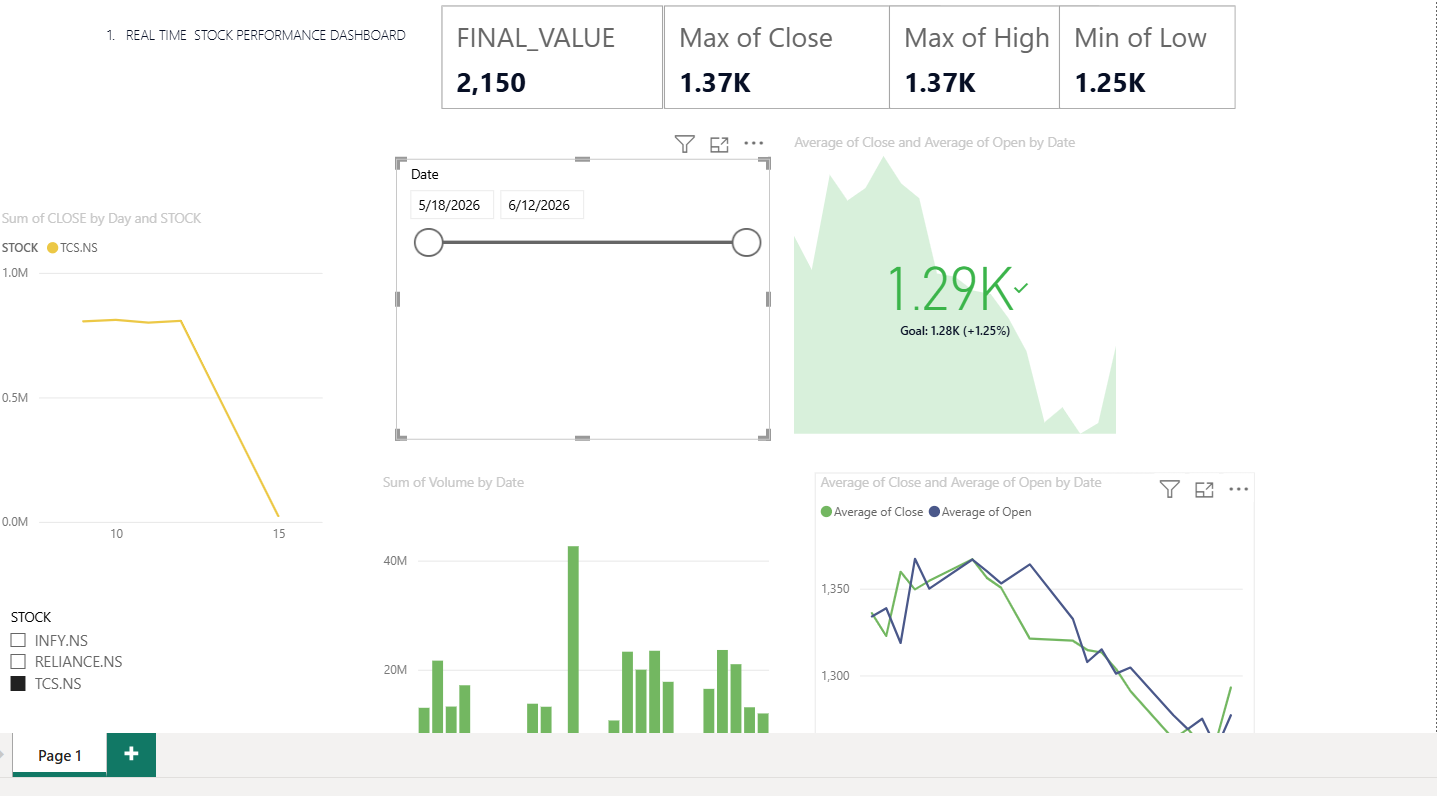

This screenshot's page, from the dashboard's own definition file:
{"tool":"powerbi","page":{"name":"Page 1","canvas":[1280,720],"ordinal":0},"visuals":[{"type":"lineChart","fields":{"Category":["Stock Data.DATE.Variation.Date Hierarchy.Year","Stock Data.DATE.Variation.Date Hierarchy.Quarter","Stock Data.DATE.Variation.Date Hierarchy.Month","Stock Data.DATE.Variation.Date Hierarchy.Day"],"Y":["Sum(Stock Data.CLOSE)"],"Series":["Stock Data.STOCK"]},"box":[0,185.2,295,306],"z":0},{"type":"slicer","fields":{"Values":["Stock Data.STOCK"]},"box":[0,535.2,234.6,185.2],"z":1000},{"type":"cardVisual","fields":{"Data":["Stock Data.FINAL_VALUE"]},"box":[391.1,0,207.2,102.9],"z":2000},{"type":"lineChart","fields":{"Y":["Avg(pub?output=csv.Close)","Avg(pub?output=csv.Open)"],"Category":["pub?output=csv.Date"]},"box":[727.3,419.9,391.1,300.5],"z":3000},{"type":"cardVisual","fields":{"Data":["Max(pub?output=csv.Close)"]},"box":[588.7,0,256.6,102.9],"z":4000},{"type":"columnChart","fields":{"Category":["pub?output=csv.Date"],"Y":["Sum(pub?output=csv.Volume)"]},"box":[338.9,419.9,365,300.5],"z":5000},{"type":"slicer","fields":{"Values":["pub?output=csv.Date"]},"box":[355.4,141.3,332.1,249.7],"z":6000},{"type":"cardVisual","fields":{"Data":["Max(pub?output=csv.High)"]},"box":[789,0,197.6,102.9],"z":7000},{"type":"cardVisual","fields":{"Data":["Min(pub?output=csv.Low)"]},"box":[940,0,167.4,102.9],"z":8000},{"type":"kpi","fields":{"Indicator":["Avg(pub?output=csv.Close)"],"TrendLine":["pub?output=csv.Date"],"Goal":["Avg(pub?output=csv.Open)"]},"box":[703.9,118,296.4,273.1],"z":9000},{"type":"textbox","box":[72.7,17.8,318.4,54.9],"z":10000}]}

Visuals, with their boxes on the page's 1280x720 design canvas (x1, y1, x2, y2). These are canvas units, not pixel positions in the 1437x796 screenshot, which may show the page scaled, cropped or inside an application window:
lineChart - Stock Data.DATE.Variation.Date Hierarchy.Year x Stock Data.DATE.Variation.Date Hierarchy.Quarter: (0,185,295,491)
slicer - Stock Data.STOCK: (0,535,235,720)
cardVisual - Stock Data.FINAL_VALUE: (391,0,598,103)
lineChart - Avg(pub?output=csv.Close) x Avg(pub?output=csv.Open): (727,420,1118,720)
cardVisual - Max(pub?output=csv.Close): (589,0,845,103)
columnChart - pub?output=csv.Date x Sum(pub?output=csv.Volume): (339,420,704,720)
slicer - pub?output=csv.Date: (355,141,688,391)
cardVisual - Max(pub?output=csv.High): (789,0,987,103)
cardVisual - Min(pub?output=csv.Low): (940,0,1107,103)
kpi - Avg(pub?output=csv.Close) x pub?output=csv.Date: (704,118,1000,391)
textbox: (73,18,391,73)
